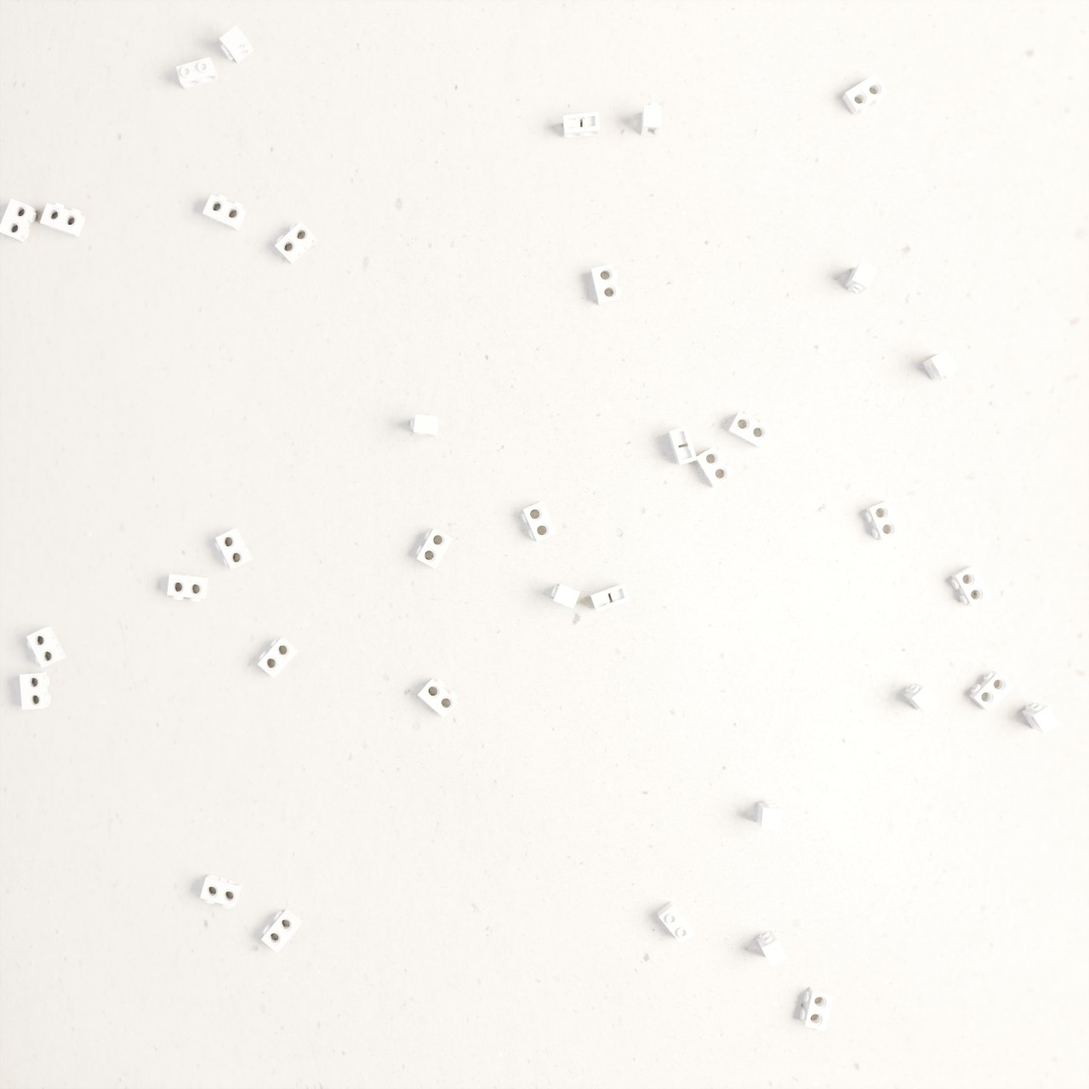lego: (261, 908, 303, 953), (275, 221, 318, 264), (842, 74, 887, 115), (969, 671, 1014, 712), (258, 637, 300, 678), (26, 626, 66, 668), (951, 565, 991, 607), (202, 194, 247, 231), (40, 202, 86, 238), (418, 678, 459, 718), (694, 446, 733, 488), (657, 901, 695, 944), (727, 411, 770, 448), (0, 198, 36, 242), (215, 528, 253, 569), (416, 528, 453, 569), (865, 500, 902, 541), (200, 874, 243, 909), (800, 987, 834, 1031), (521, 501, 557, 542), (176, 57, 219, 90), (219, 25, 254, 64), (591, 264, 622, 306), (1022, 702, 1060, 734), (19, 672, 51, 710), (590, 583, 630, 612), (668, 426, 697, 466), (167, 574, 208, 602), (922, 349, 957, 381), (757, 931, 788, 967), (904, 683, 940, 714), (845, 261, 878, 294), (563, 112, 600, 139), (756, 799, 781, 831), (551, 583, 580, 609), (641, 102, 662, 137), (411, 414, 439, 437)
